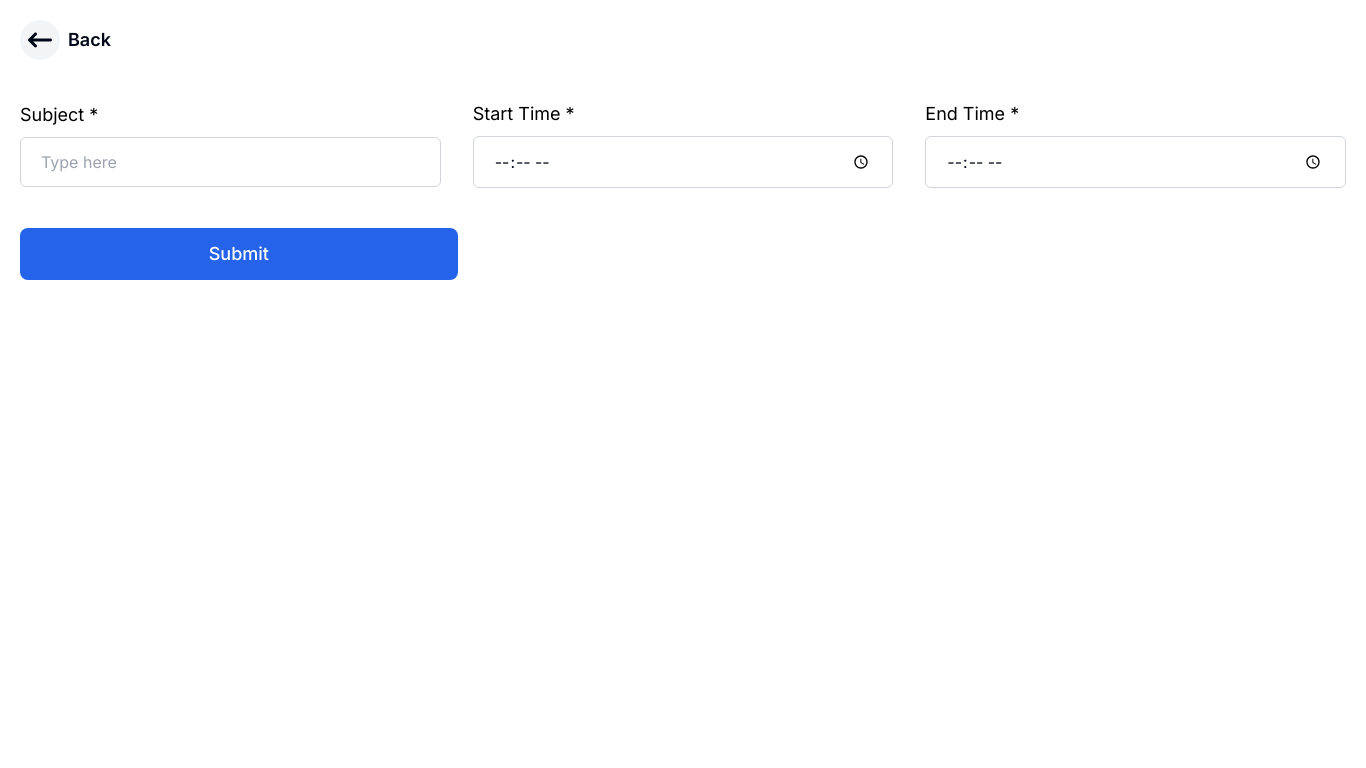
Test: CreateTimetable Component › handles form submission and shows success message
This screenshot has width=1366, height=768.
Type "Science" into the field with placeholder "Type here".
click(230, 162); type("Science")  # box [20,137,441,187]
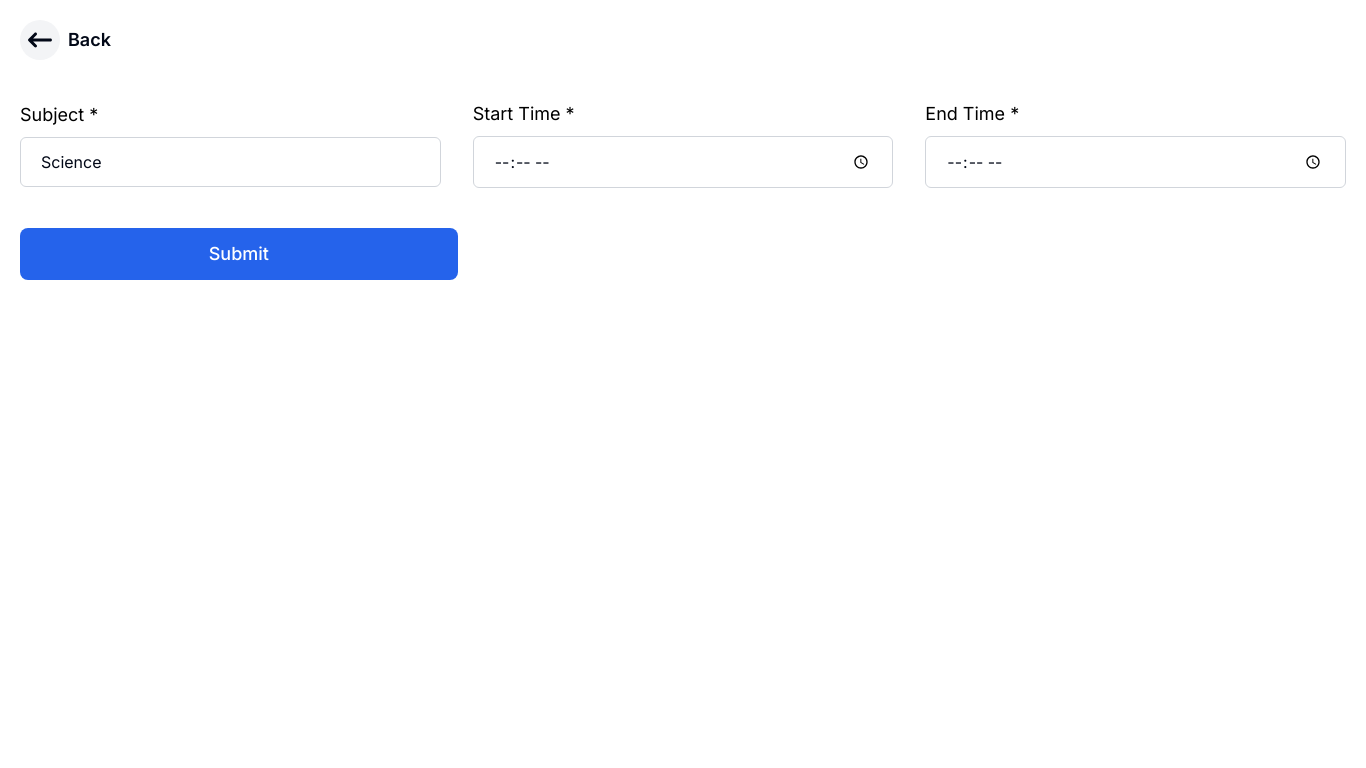
Type "10:00" into the time field labelled "Start Time *".
click(683, 162); type("10:00")  # box [473,136,893,188]
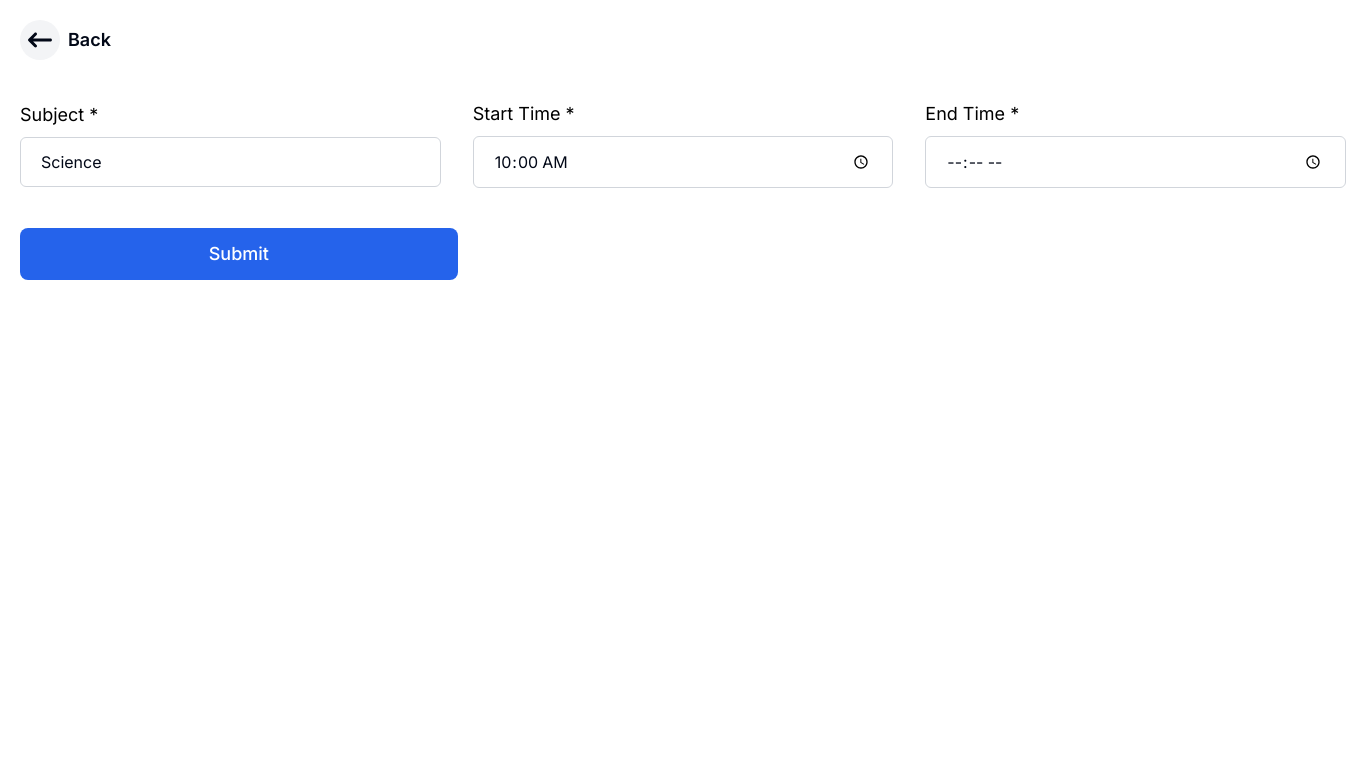
Type "11:00" into the time field labelled "End Time *".
click(1136, 162); type("11:00")  # box [925,136,1346,188]
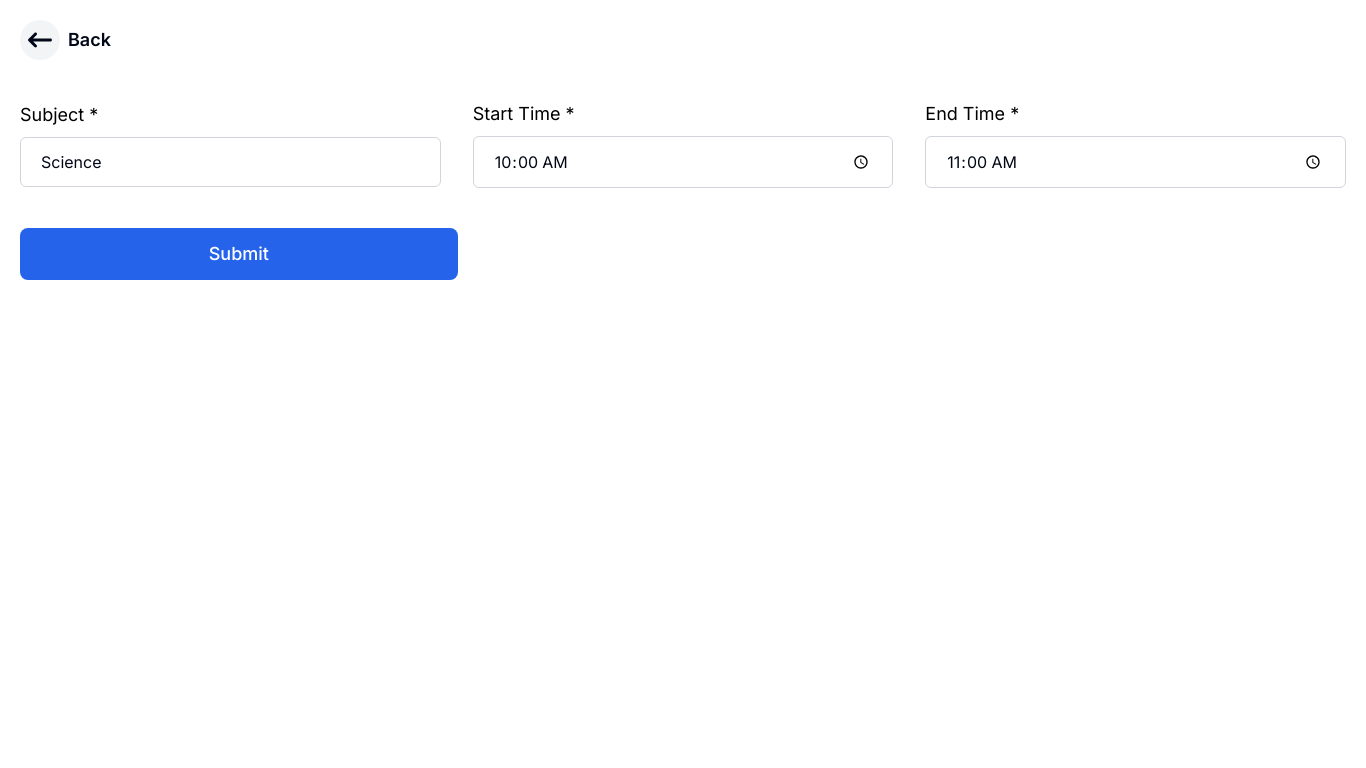
Click the button "Submit".
click(239, 254)  # box [20,228,458,280]
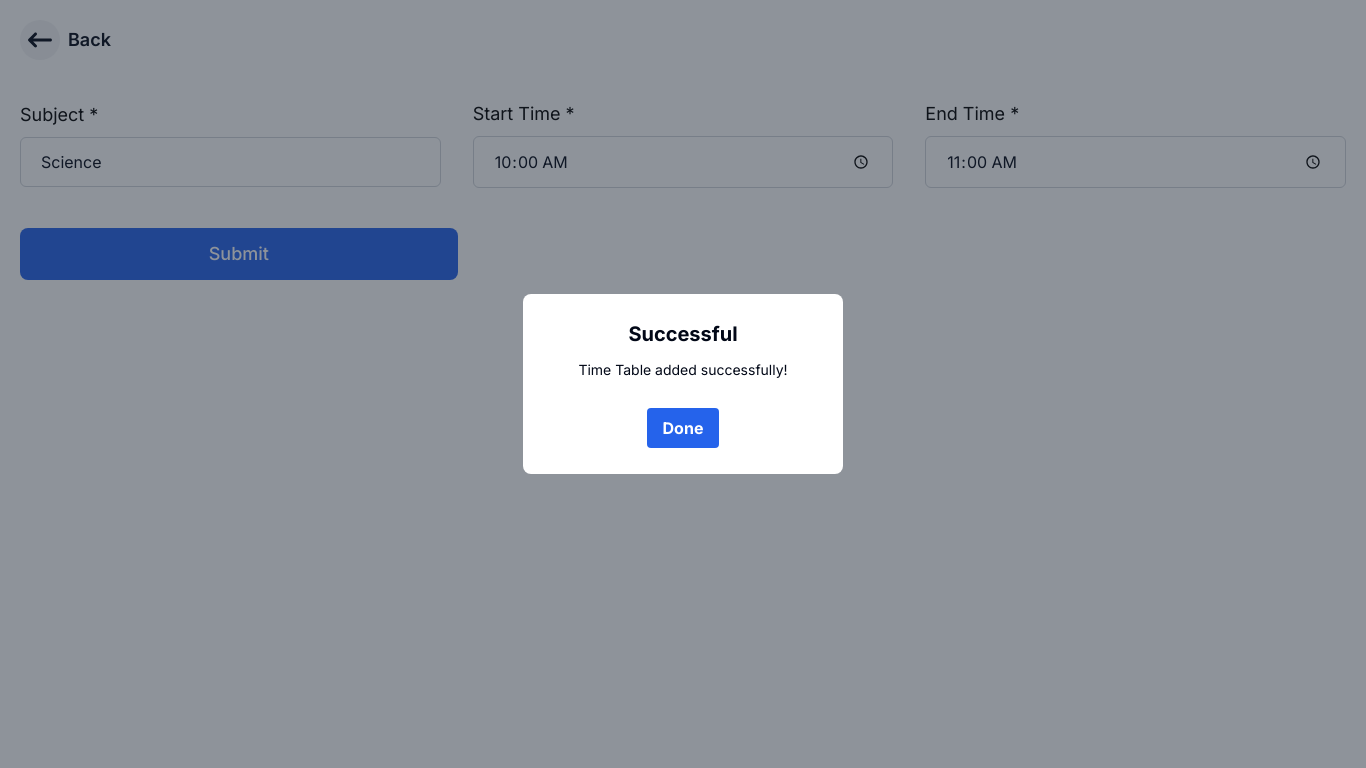
Expected: the heading "Time Table added successfully!" is shown, [578,360,788,380]
